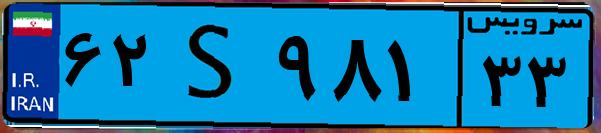1: (385, 28, 445, 110)
2: (110, 28, 158, 98)
3: (475, 38, 525, 113), (525, 38, 570, 115)
6: (57, 26, 110, 100)
8: (330, 28, 385, 110)
9: (270, 28, 330, 110)
S: (158, 12, 270, 120)
